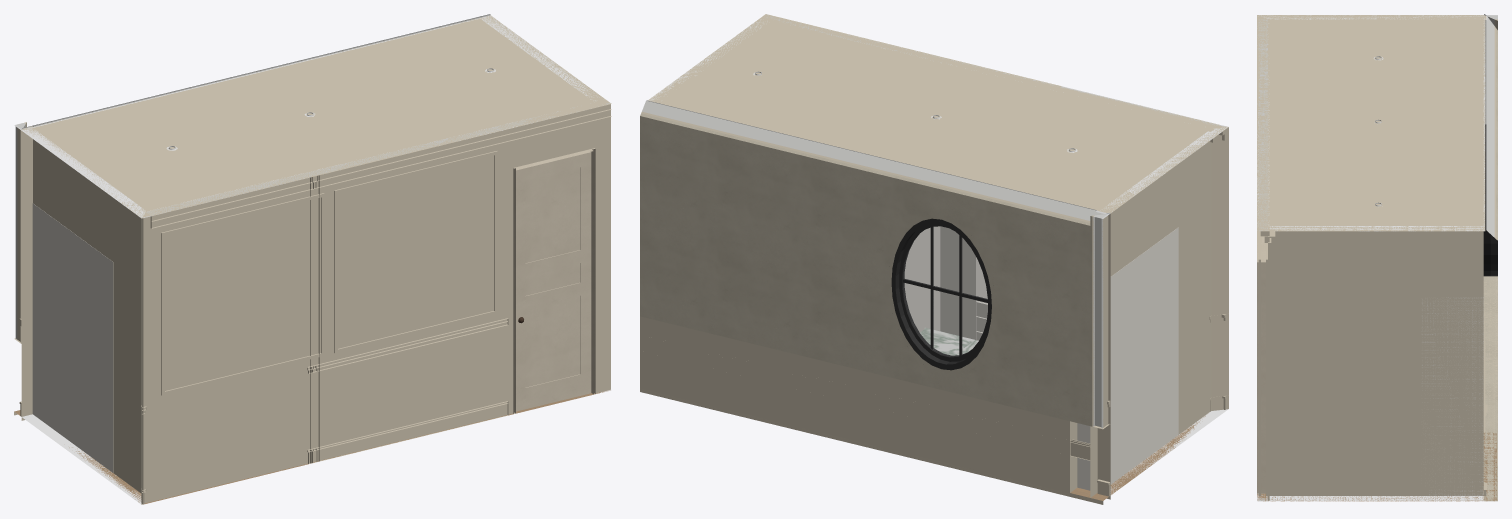
Rendered from primary-loli-closet-db250eed007c.glb.
3 renders of one model, left to right at view 1: azimuth 30°, elevation 25°; view 2: azimuth 150°, elevation 25°; view 3: azimuth 270°, elevation 25°, orthographic. The views are drawn at different scales.
Visible parts, largest first — view 1: primary-loli-closet-21ac2ed1b4475155, primary-loli-closet-9d91b47435c6fb33, primary-loli-closet-6d601da8073fdc0e, primary-loli-closet-77b772996f7f67b8, primary-loli-closet-69af8f587252f9fa, primary-loli-closet-e7983be95ab098c1, primary-loli-closet-e48b5483df8cacdb, primary-loli-closet-40ba494a131a1b09, primary-loli-closet-c8a93ab7b69c3b53, primary-loli-closet-9e6cdde78fc443e1, primary-loli-closet-08e5178be0cf1e43, primary-loli-closet-3a163573517a0810 (+9 smaller); view 2: primary-loli-closet-3763e2fb8578d282, primary-loli-closet-9d91b47435c6fb33, primary-loli-closet-3a806c711886e947, primary-loli-closet-69af8f587252f9fa, primary-loli-closet-77b772996f7f67b8, primary-loli-closet-36e90e3a4ab3386f, primary-loli-closet-91eb0f90e9e94d87, primary-loli-closet-28fa16303b99ff8f, primary-loli-closet-2575515a05775d9e, primary-loli-closet-254dccfc69fd7b68, primary-loli-closet-3a163573517a0810, primary-loli-closet-4717698be62d0b44 (+6 smaller); view 3: primary-loli-closet-95b94d4b81cfb474, primary-loli-closet-9d91b47435c6fb33, primary-loli-closet-3a806c711886e947, primary-loli-closet-91eb0f90e9e94d87, primary-loli-closet-21ac2ed1b4475155, primary-loli-closet-9e6cdde78fc443e1, primary-loli-closet-4717698be62d0b44, primary-loli-closet-3a163573517a0810, primary-loli-closet-2575515a05775d9e, primary-loli-closet-982e9316be37b1b4, primary-loli-closet-36e90e3a4ab3386f, primary-loli-closet-942c52dd436cf41a (+6 smaller).
Part boxes in pixels (x1=…): primary-loli-closet-21ac2ed1b4475155: x1=142, y1=103, x2=611, y2=504; primary-loli-closet-9d91b47435c6fb33: x1=21, y1=15, x2=611, y2=218; primary-loli-closet-6d601da8073fdc0e: x1=516, y1=152, x2=591, y2=411; primary-loli-closet-77b772996f7f67b8: x1=32, y1=203, x2=113, y2=472; primary-loli-closet-69af8f587252f9fa: x1=22, y1=128, x2=145, y2=504; primary-loli-closet-e7983be95ab098c1: x1=20, y1=15, x2=490, y2=343; primary-loli-closet-e48b5483df8cacdb: x1=310, y1=175, x2=319, y2=462; primary-loli-closet-40ba494a131a1b09: x1=161, y1=193, x2=324, y2=395; primary-loli-closet-c8a93ab7b69c3b53: x1=334, y1=151, x2=497, y2=353; primary-loli-closet-9e6cdde78fc443e1: x1=513, y1=148, x2=595, y2=413; primary-loli-closet-08e5178be0cf1e43: x1=150, y1=104, x2=611, y2=228; primary-loli-closet-3a163573517a0810: x1=141, y1=98, x2=603, y2=211; primary-loli-closet-3763e2fb8578d282: x1=640, y1=113, x2=1092, y2=426; primary-loli-closet-9d91b47435c6fb33: x1=647, y1=14, x2=1227, y2=214; primary-loli-closet-3a806c711886e947: x1=640, y1=316, x2=1077, y2=492; primary-loli-closet-69af8f587252f9fa: x1=1099, y1=127, x2=1228, y2=495; primary-loli-closet-77b772996f7f67b8: x1=1077, y1=227, x2=1178, y2=490; primary-loli-closet-36e90e3a4ab3386f: x1=891, y1=218, x2=991, y2=370; primary-loli-closet-91eb0f90e9e94d87: x1=642, y1=100, x2=1107, y2=220; primary-loli-closet-28fa16303b99ff8f: x1=924, y1=226, x2=987, y2=340; primary-loli-closet-2575515a05775d9e: x1=640, y1=388, x2=1205, y2=504; primary-loli-closet-254dccfc69fd7b68: x1=1093, y1=215, x2=1103, y2=428; primary-loli-closet-3a163573517a0810: x1=758, y1=18, x2=1214, y2=142; primary-loli-closet-4717698be62d0b44: x1=904, y1=230, x2=924, y2=332; primary-loli-closet-95b94d4b81cfb474: x1=1269, y1=226, x2=1483, y2=501; primary-loli-closet-9d91b47435c6fb33: x1=1257, y1=14, x2=1487, y2=231; primary-loli-closet-3a806c711886e947: x1=1483, y1=276, x2=1497, y2=501; primary-loli-closet-91eb0f90e9e94d87: x1=1485, y1=15, x2=1494, y2=432; primary-loli-closet-21ac2ed1b4475155: x1=1257, y1=16, x2=1269, y2=501; primary-loli-closet-9e6cdde78fc443e1: x1=1257, y1=236, x2=1265, y2=493; primary-loli-closet-4717698be62d0b44: x1=1421, y1=297, x2=1483, y2=495; primary-loli-closet-3a163573517a0810: x1=1268, y1=19, x2=1275, y2=242; primary-loli-closet-2575515a05775d9e: x1=1257, y1=432, x2=1497, y2=501; primary-loli-closet-982e9316be37b1b4: x1=1258, y1=15, x2=1266, y2=242; primary-loli-closet-36e90e3a4ab3386f: x1=1483, y1=124, x2=1497, y2=276; primary-loli-closet-942c52dd436cf41a: x1=1258, y1=243, x2=1260, y2=495.
Size of the model in its own units: 4.98 by 2.95 by 2.34.
22 materials, 5 textured.
